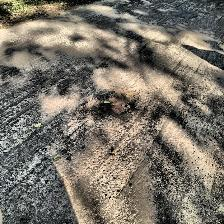pothole: (72, 86, 140, 122)
